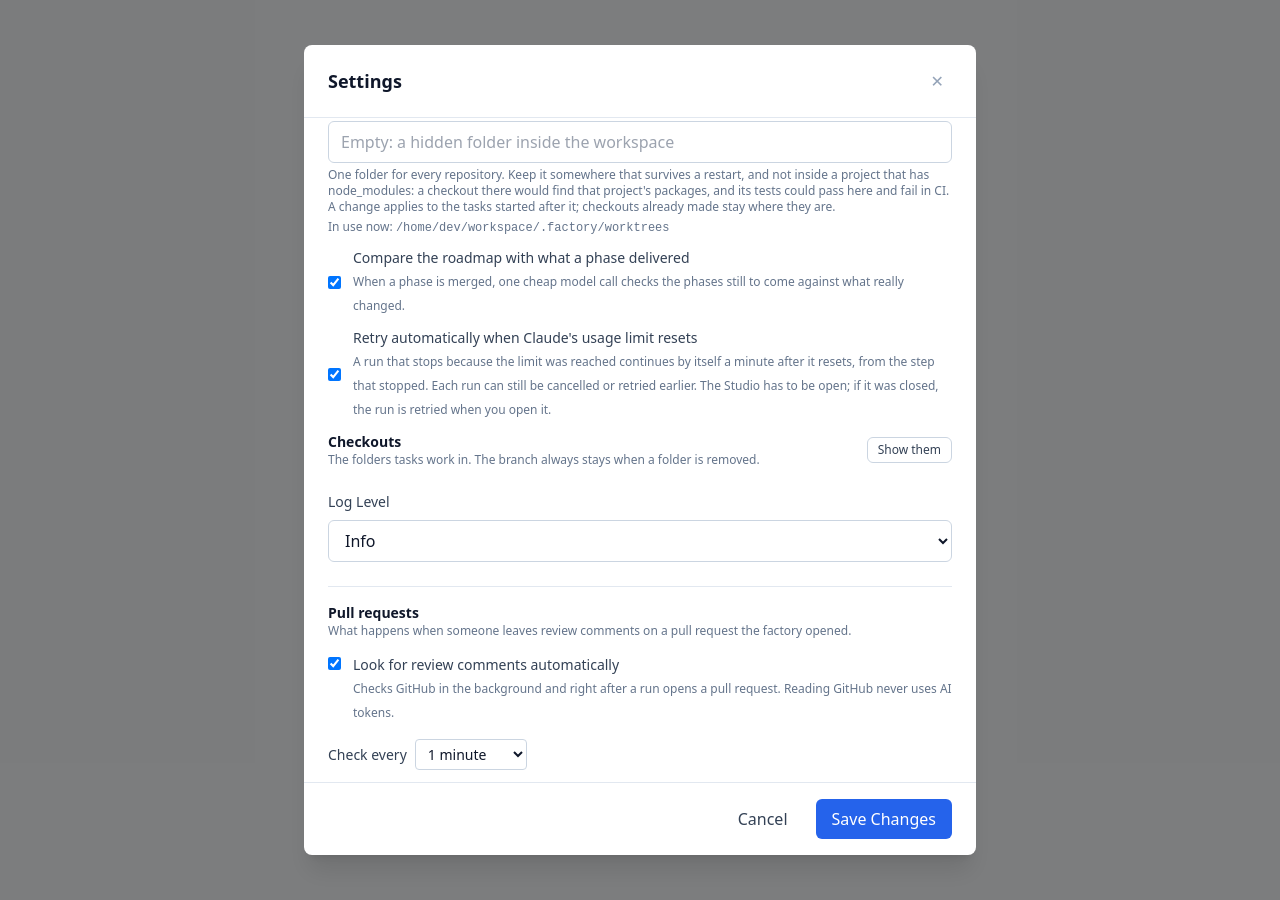
Test: the checkouts › warns of work that is not committed, and marks the ones whose pull request is over
(page scrolled)
Click the button "Show them": (909,450) left=867, top=437, right=952, bottom=463
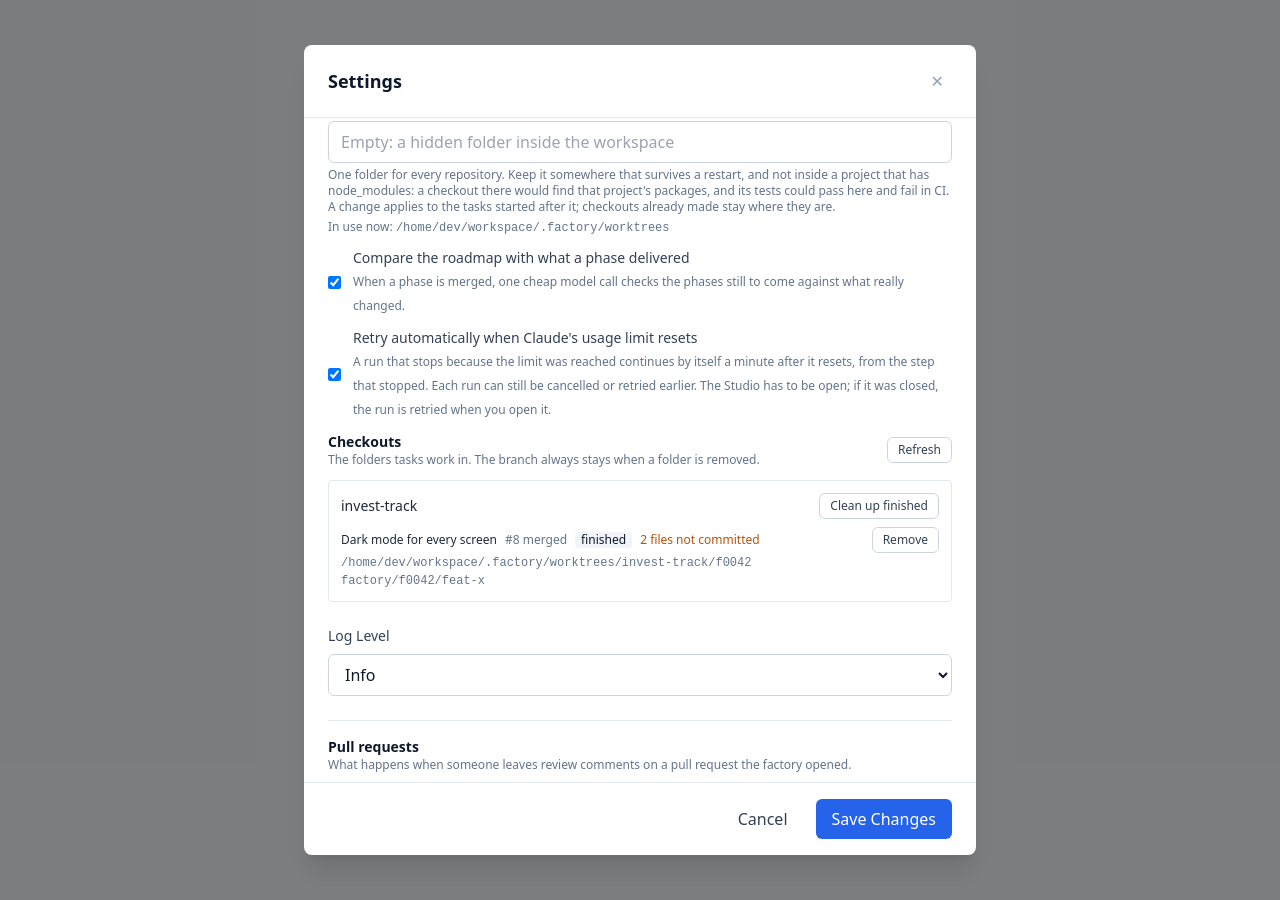
Expected: the element with test id "worktrees-invest-track" shows "2 files not committed", left=328, top=480, right=952, bottom=602
Expected: the element with test id "worktrees-invest-track" shows "finished", left=581, top=531, right=626, bottom=548
Expected: the element with test id "worktrees-invest-track" shows "#8 merged", left=328, top=480, right=952, bottom=602
